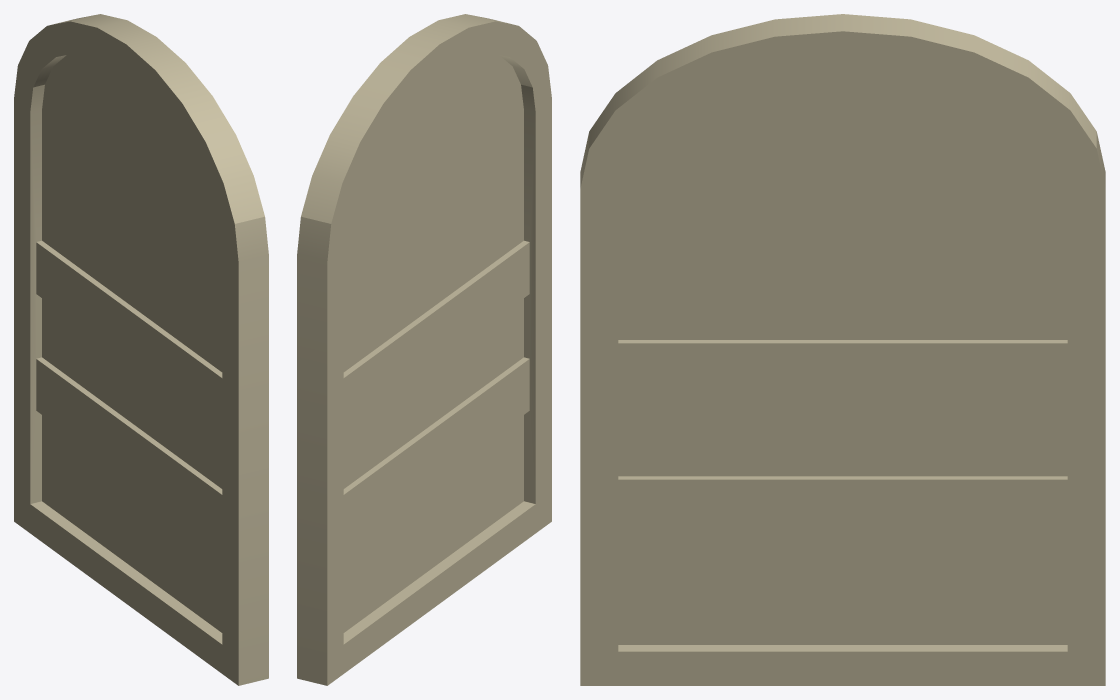
The model's file is gate.glb.
3 views of the same model, side by side, from view 1: azimuth 30°, elevation 25°; view 2: azimuth 150°, elevation 25°; view 3: azimuth 270°, elevation 25° (orthographic). The views are drawn at different scales.
Size of the model in its own units: 0.516 by 9.1 by 6.62.
